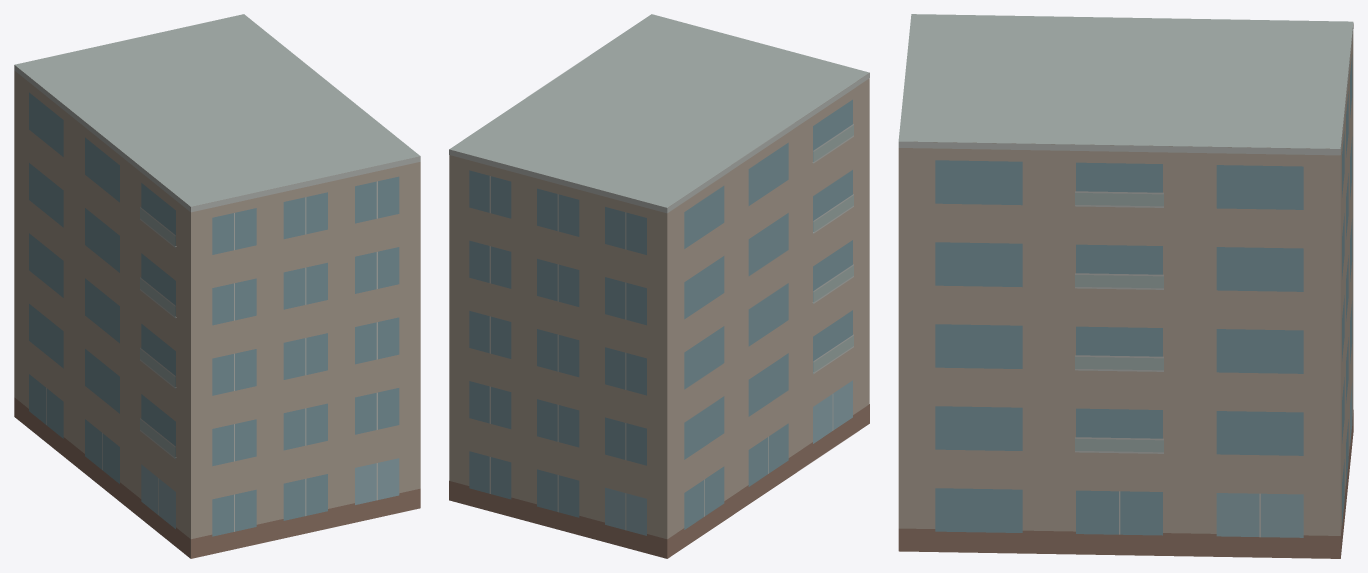
The model's file is survey-upis-32735733.glb.
3 renders of one model, left to right at view 1: azimuth 30°, elevation 25°; view 2: azimuth 150°, elevation 25°; view 3: azimuth 270°, elevation 25°, orthographic. The views are drawn at different scales.
Parts seen in each view (by area): view 1: survey-upis-32735733.tmp; view 2: survey-upis-32735733.tmp; view 3: survey-upis-32735733.tmp.
Part boxes in pixels (x1,y1,x2,y2): survey-upis-32735733.tmp: (14, 14, 420, 558); survey-upis-32735733.tmp: (449, 14, 869, 558); survey-upis-32735733.tmp: (898, 14, 1353, 558).
Size of the model in its own units: 10.95 by 15.5 by 15.6.
